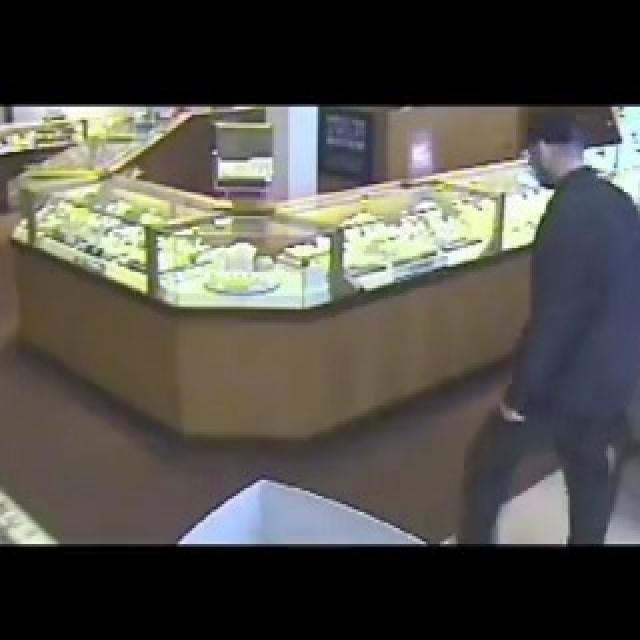Normal: (452, 106, 639, 546)
